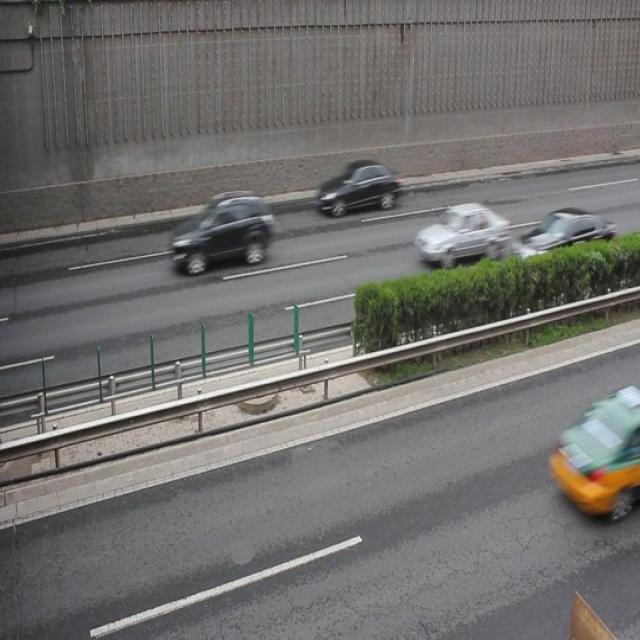car: (546, 396, 640, 512), (172, 191, 272, 275), (511, 208, 615, 272), (414, 203, 506, 268), (317, 160, 399, 218)
